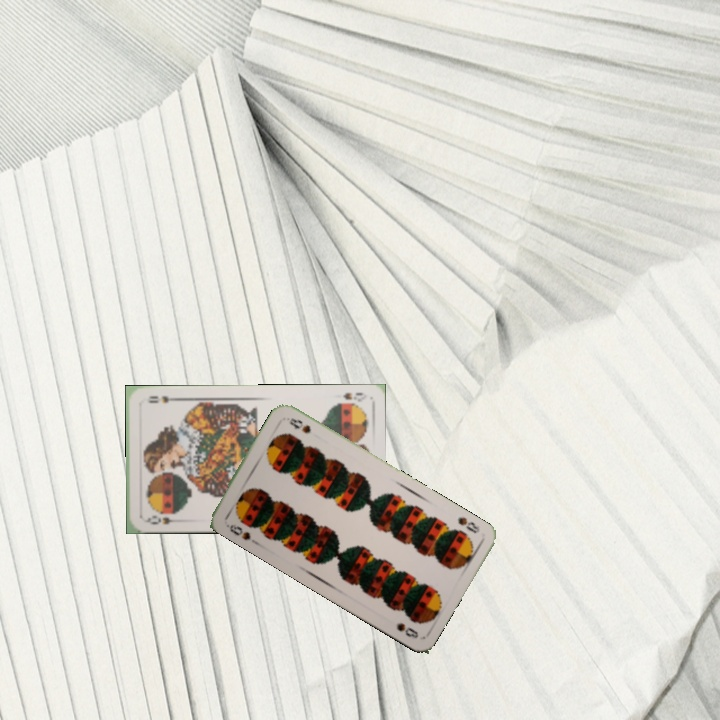S8: (222, 520, 253, 543), (454, 513, 482, 536)
SO: (141, 511, 181, 527), (339, 388, 369, 404)
